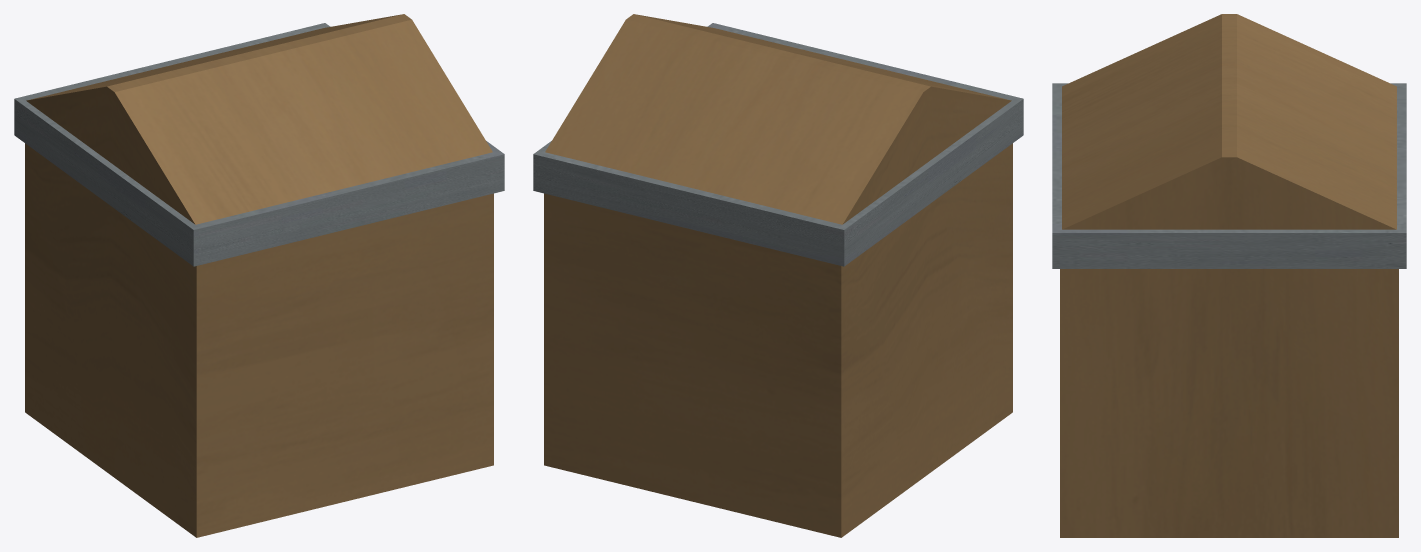
Rendered from BumperRailingx1.glb.
3 views of the same model, side by side, from view 1: azimuth 30°, elevation 25°; view 2: azimuth 150°, elevation 25°; view 3: azimuth 270°, elevation 25° (orthographic).
Parts seen in each view (by area): view 1: BumperRailingx1; view 2: BumperRailingx1; view 3: BumperRailingx1.
Part boxes in pixels (x1,y1,x2,y2): BumperRailingx1: (14, 14, 504, 537); BumperRailingx1: (533, 14, 1023, 537); BumperRailingx1: (1052, 14, 1406, 537).
Bounding box in the file's own units: 2.09 × 2.48 × 2.09.
Materials: 2 (2 with a texture image).
